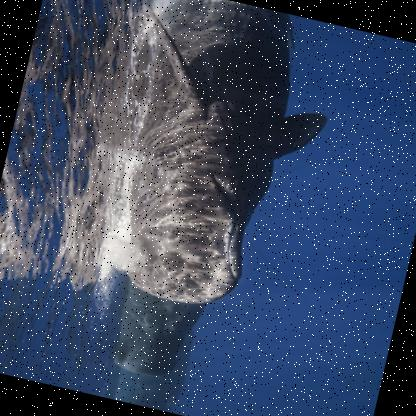sperm_whale: (86, 0, 354, 339)
